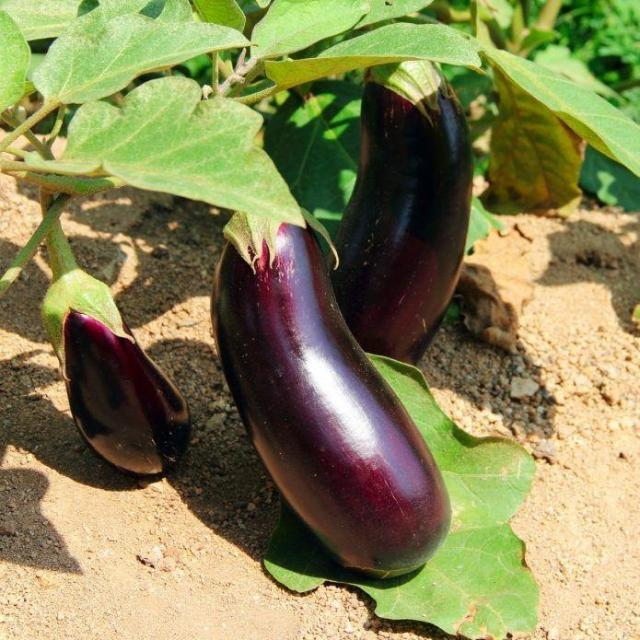eggplant: (208, 201, 451, 579), (42, 185, 195, 478)
